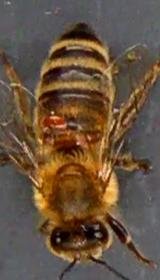varroa_mite: (41, 111, 70, 134)
